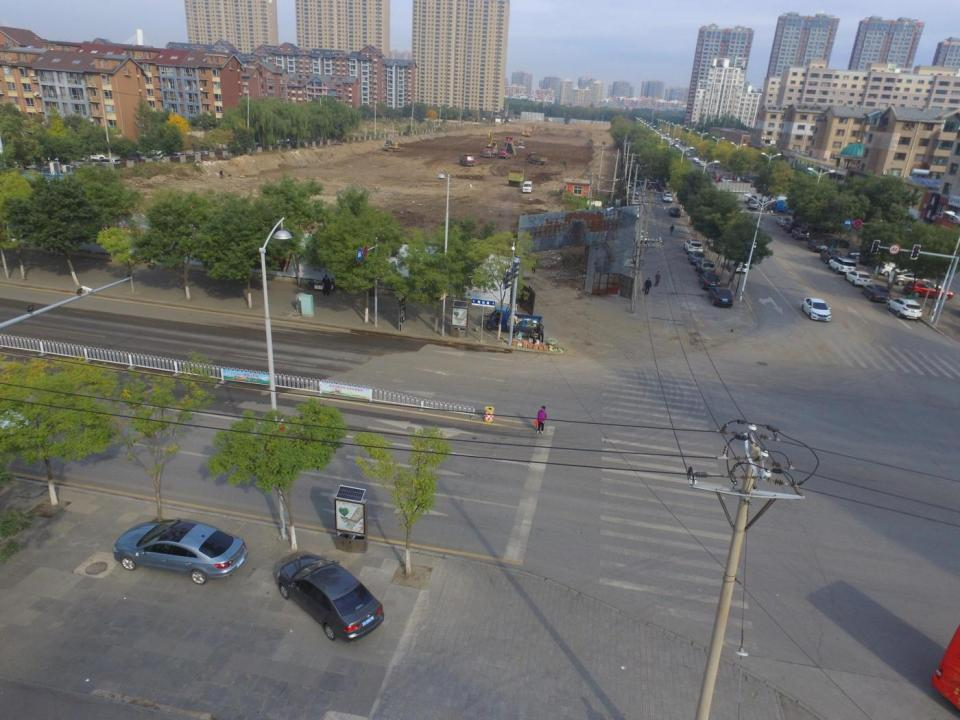car: (276, 554, 385, 644), (112, 519, 249, 584), (906, 278, 954, 300), (886, 298, 924, 322), (800, 296, 832, 322), (893, 269, 926, 286), (864, 284, 891, 303), (878, 260, 908, 277), (709, 287, 733, 308), (699, 269, 718, 293), (830, 258, 856, 275), (847, 269, 871, 287), (819, 249, 842, 266), (809, 236, 827, 255), (860, 254, 891, 265), (696, 258, 715, 275), (848, 249, 874, 260), (684, 238, 701, 254), (791, 227, 809, 241), (826, 237, 848, 248), (686, 250, 703, 264), (782, 221, 800, 234), (775, 215, 791, 229), (748, 198, 759, 211), (667, 208, 681, 218), (662, 193, 673, 202)
truck: (482, 302, 544, 336), (775, 197, 811, 218), (524, 152, 548, 167), (506, 168, 524, 187), (459, 152, 476, 167)
van: (522, 180, 533, 194)
